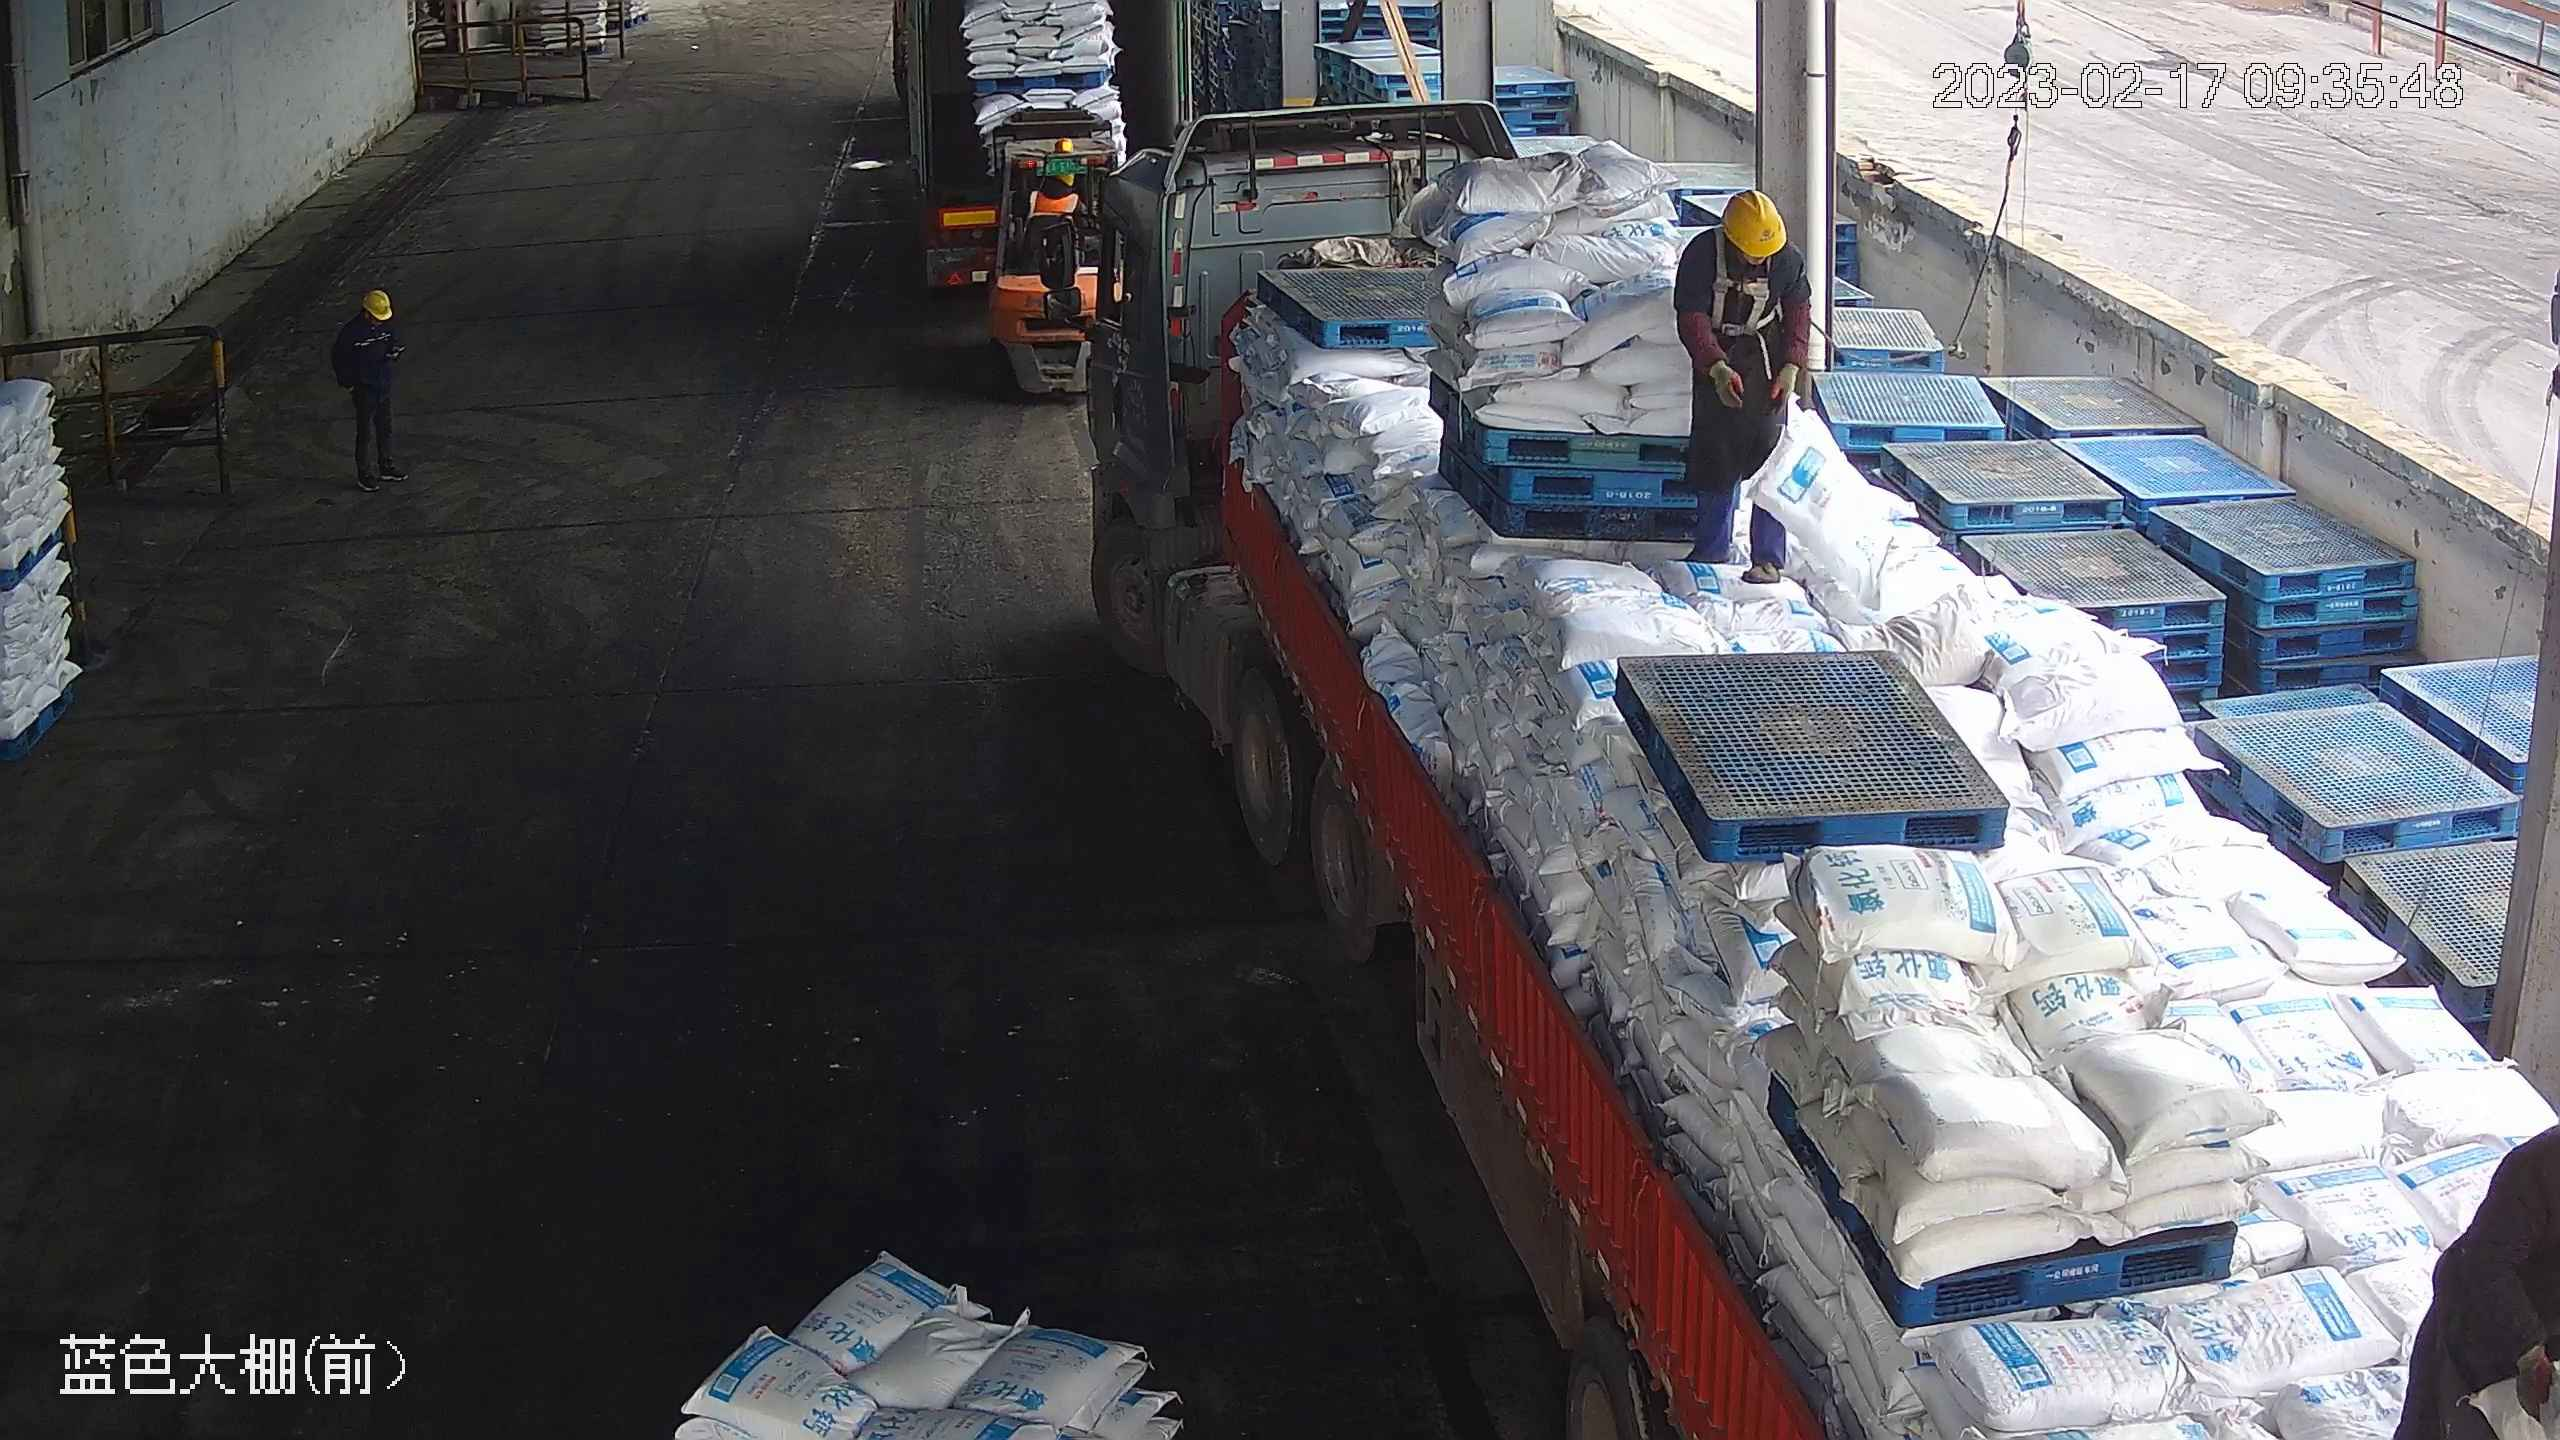belt: (1709, 239, 1784, 335)
head: (1678, 186, 1801, 289), (334, 287, 400, 350)
helmet: (1720, 187, 1786, 259), (362, 286, 393, 317)
people: (1668, 185, 1814, 588), (332, 286, 412, 490)
truck: (1078, 86, 2556, 1440)
